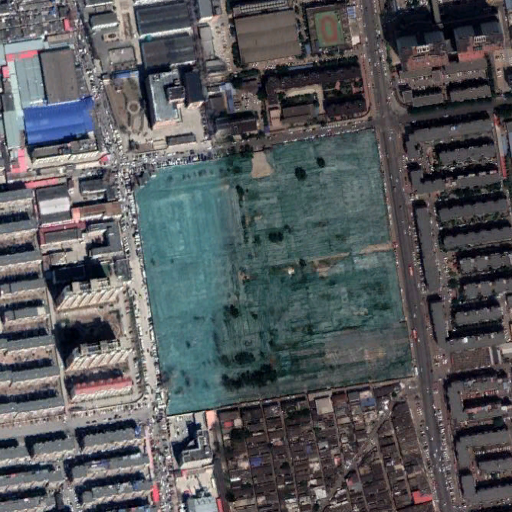cw: (129, 128, 415, 418)
